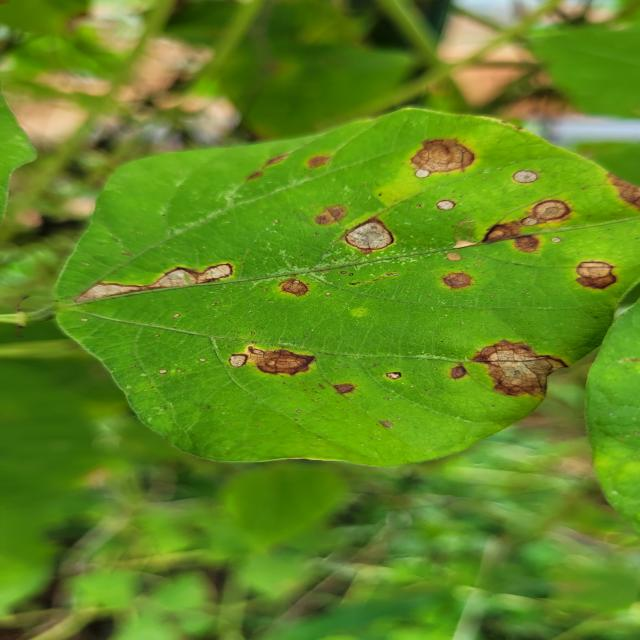Dolicos bean_cercospora leaf spot: (45, 108, 640, 465)
